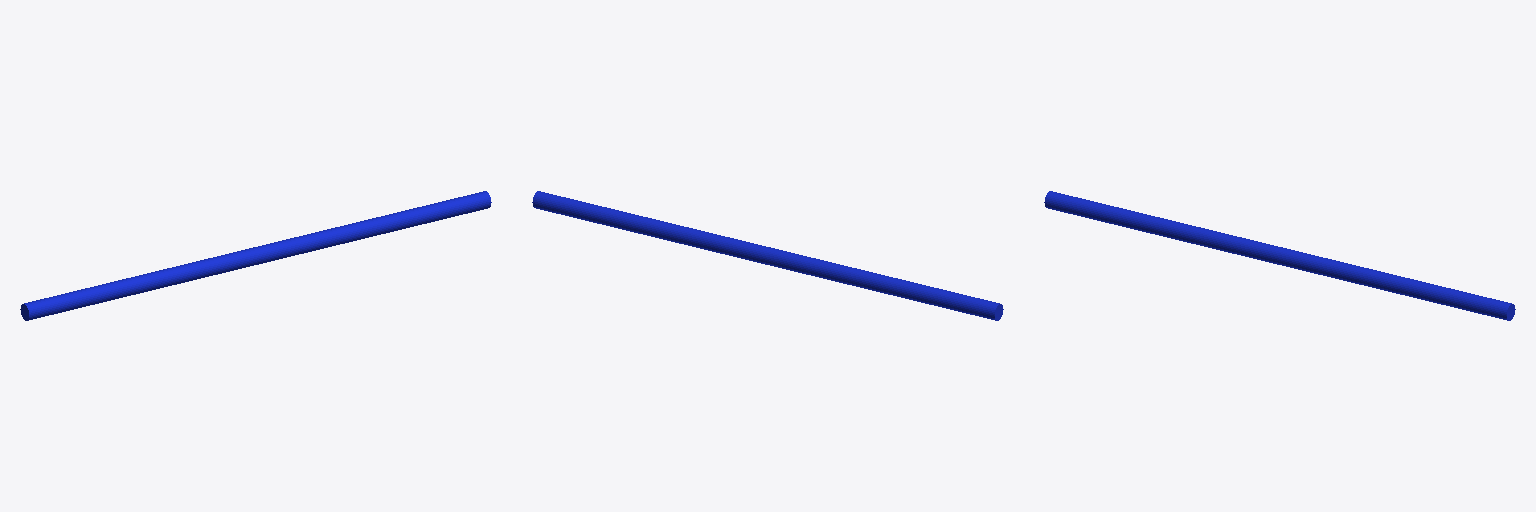
The robot description file, URDF, robot "cb_pen_d50_m10":
<?xml version="1.0"?>
<!-- A30 pen search rod. Generated by FoundationTouch tools/contactbench/pen_tasks.py -->
<robot name="cb_pen_d50_m10">
  <material name="c"><color rgba="0.15 0.25 0.85 1.0"/></material>
  <link name="object">
    <visual><origin xyz="0 0 0" rpy="0 0 0"/><geometry><mesh filename="rod.obj" scale="1 1 1"/></geometry><material name="c"/></visual>
    <collision><origin xyz="0 0 0" rpy="0 0 0"/><geometry><mesh filename="rod.obj" scale="1 1 1"/></geometry></collision>
    <inertial><mass value="1.000000e-02"/><origin xyz="0 0 0" rpy="0 0 0"/><inertia ixx="3.104985e-08" ixy="0" ixz="0" iyy="1.876552e-05" iyz="0" izz="1.876552e-05"/></inertial>
  </link>
</robot>

--- Render facts (derived) ---
3 views of the same robot in one strip: view 1: azimuth 30°, elevation 25°; view 2: azimuth 150°, elevation 25°; view 3: azimuth 330°, elevation 25° (orthographic).
Model cb_pen_d50_m10 with 1 links and 0 joints (none), rooted at object, posed all joints at 0.
Visible links, largest first — view 1: object; view 2: object; view 3: object.
Boxes of the visible links, bbox=[...] form: object: bbox=[20, 191, 491, 320]; object: bbox=[532, 191, 1003, 320]; object: bbox=[1044, 191, 1515, 320].
Size in the robot's own frame: 0.15 by 0.005 by 0.005 metres.
1 mesh visuals loaded from 1 distinct referenced files (1 OBJ).
